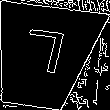L_S: (16, 29, 70, 84)
